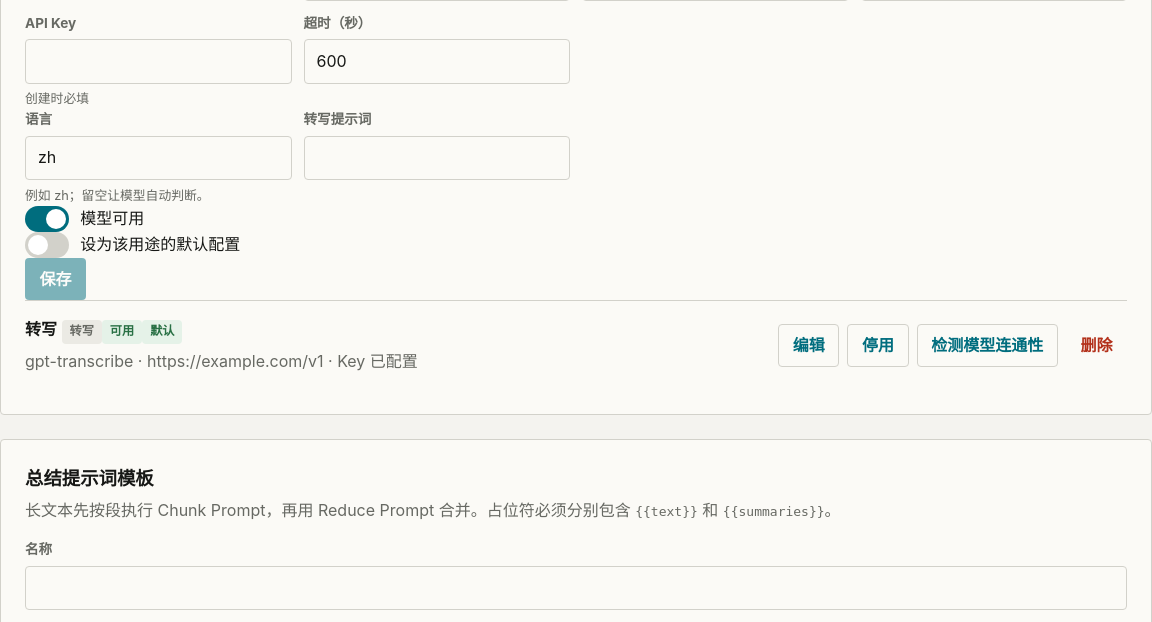
AI profile editor › toggles availability and shows the provider probe error
(page scrolled)
Click the button "停用": (878, 346) left=847, top=324, right=909, bottom=367
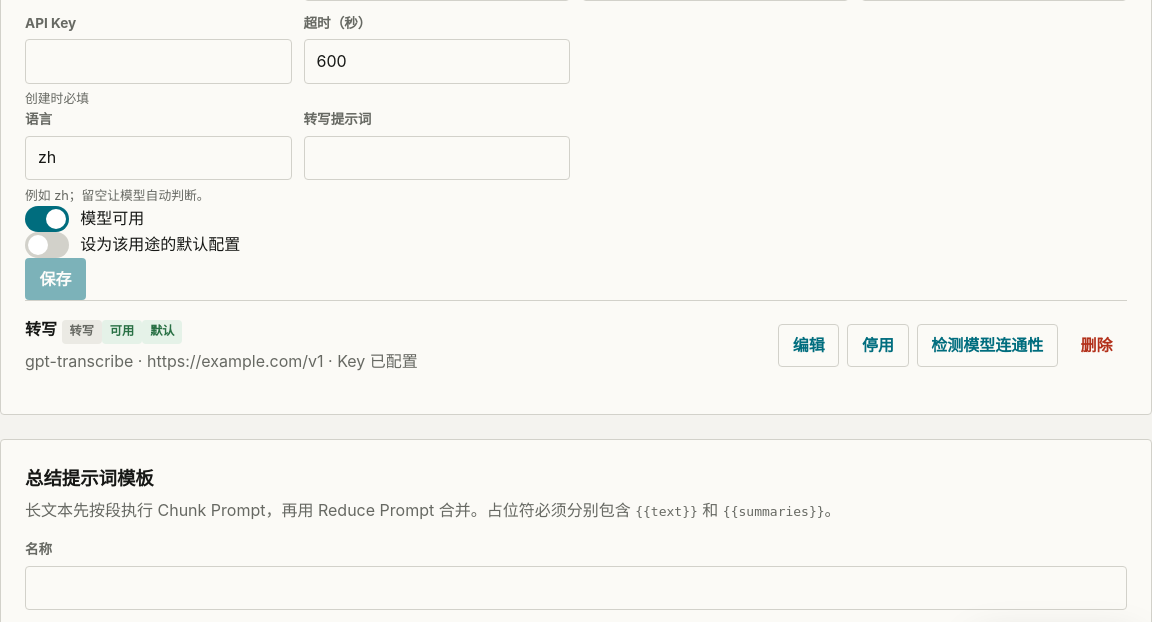
Click the button "检测模型连通性": (987, 346) left=917, top=324, right=1058, bottom=367
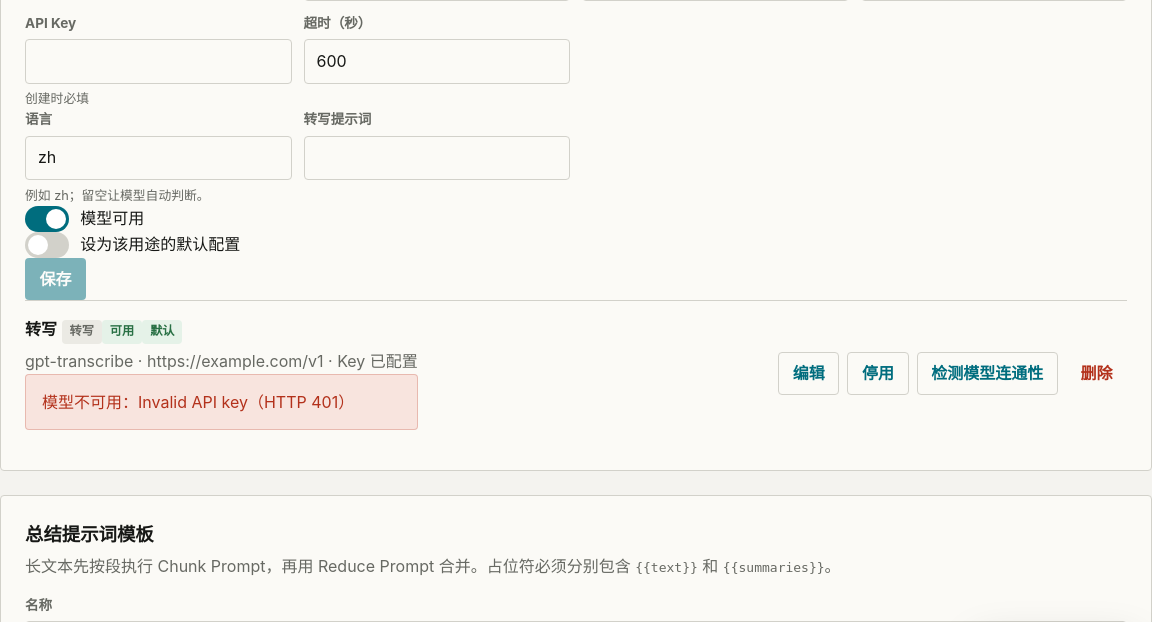
Check: the text "模型不可用：Invalid API key（HTTP 401）" is shown, box left=25, top=374, right=418, bottom=430
